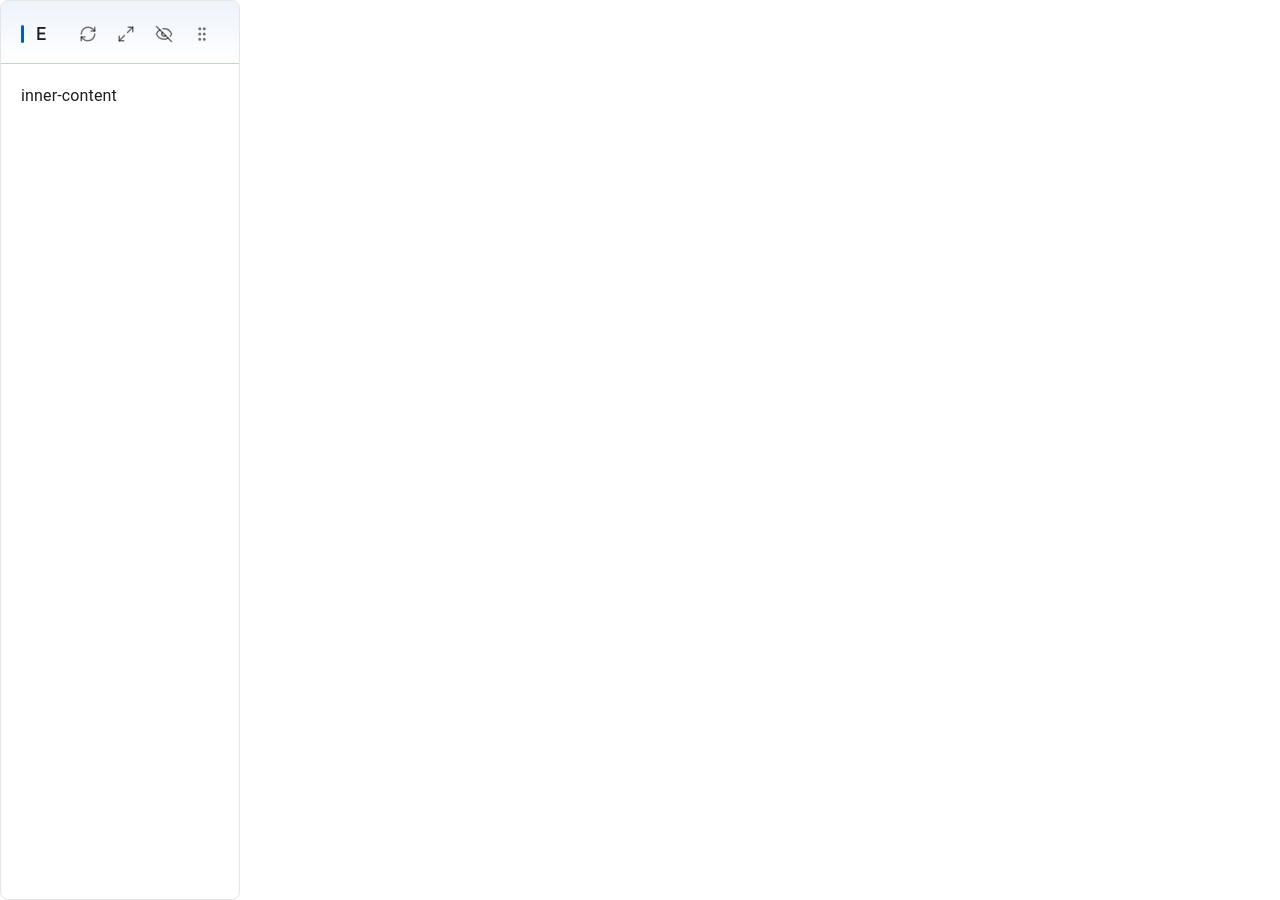
Scenario: WidgetCard › expand opens a dialog re-rendering children
Click the button named "expand e": (126, 34) [108,17,142,51]
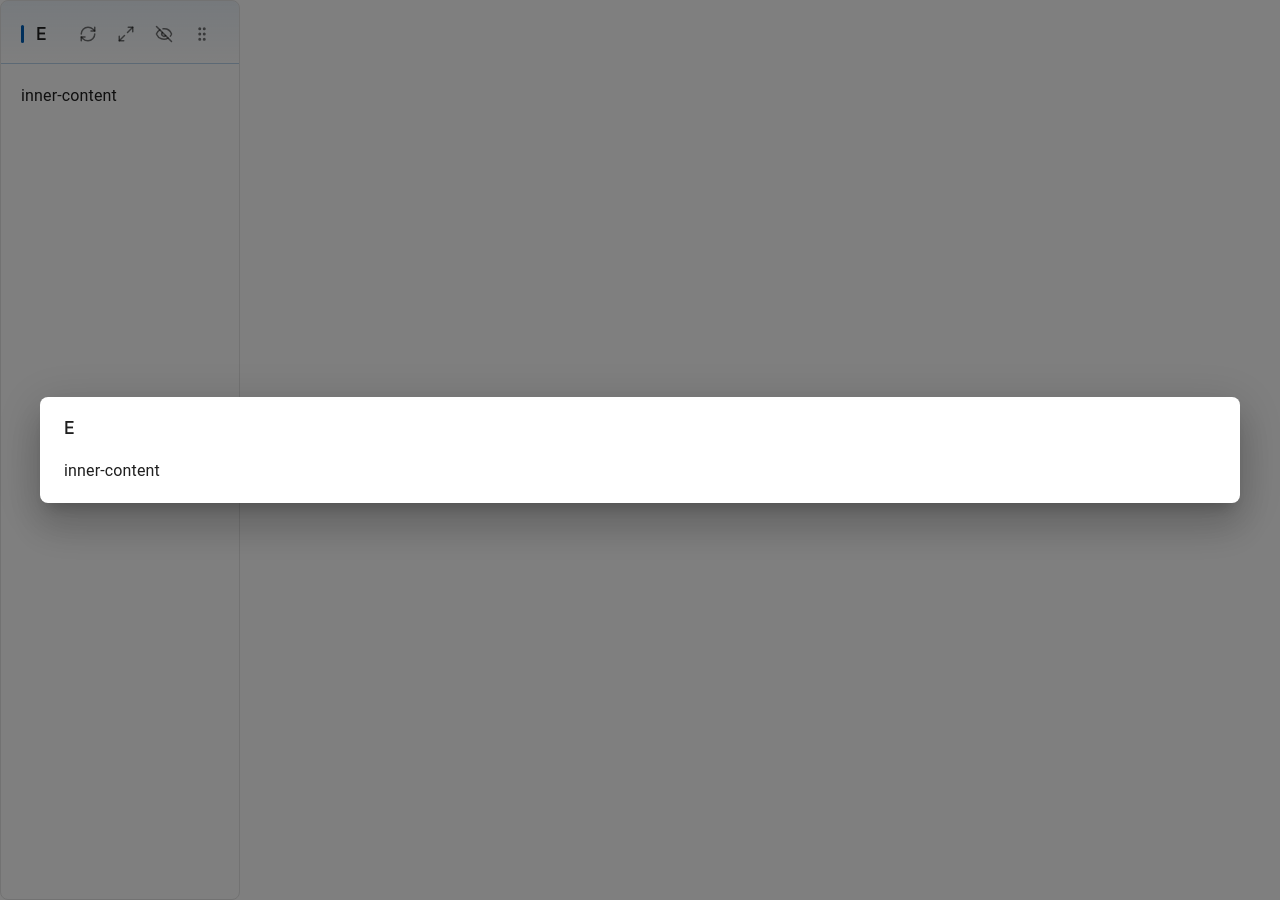
Result: the text "inner-content" is shown 2 times at [21,86,117,105]; [64,461,160,480]
